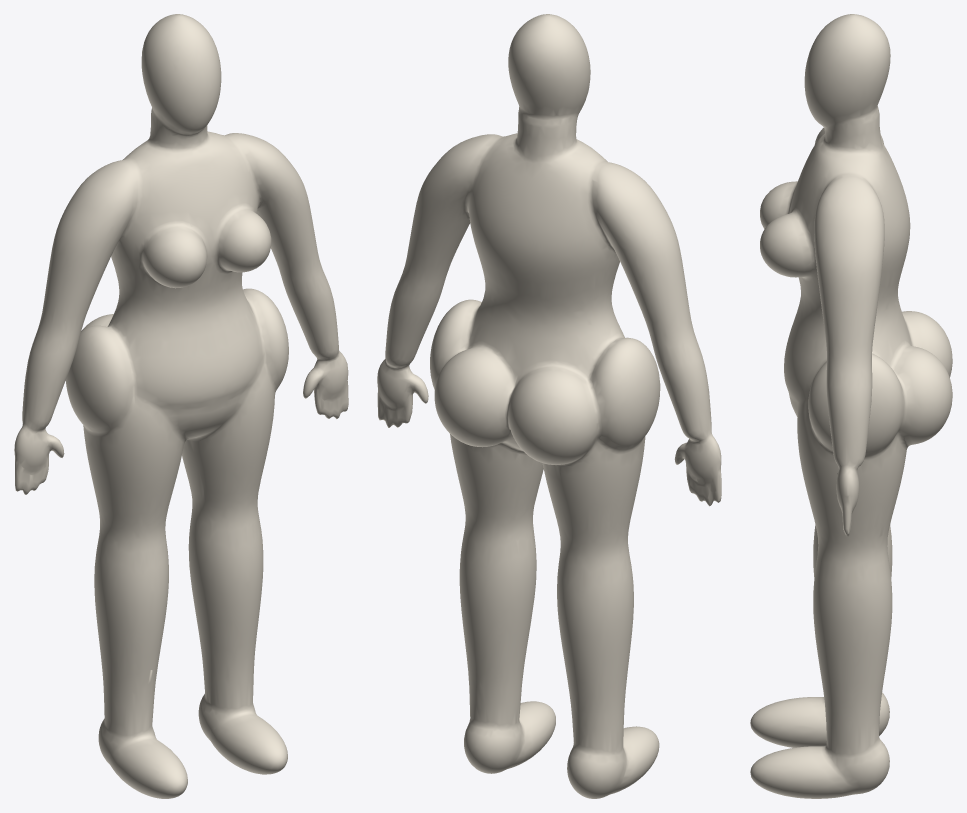
File: woobi_female_mannequin.glb
The picture shows the model from 3 angles, left to right: view 1: azimuth 30°, elevation 25°; view 2: azimuth 150°, elevation 25°; view 3: azimuth 270°, elevation 25°; orthographic projection. The views are drawn at different scales.
Visible parts, largest first — view 1: Woobi_Female_Mannequin_Body; view 2: Woobi_Female_Mannequin_Body; view 3: Woobi_Female_Mannequin_Body.
Part boxes in pixels (x1,y1,x2,y2): Woobi_Female_Mannequin_Body: [14, 14, 348, 798]; Woobi_Female_Mannequin_Body: [377, 14, 721, 798]; Woobi_Female_Mannequin_Body: [750, 14, 952, 798].
Size of the model in its own units: 0.7921 by 1.7 by 0.4124.
